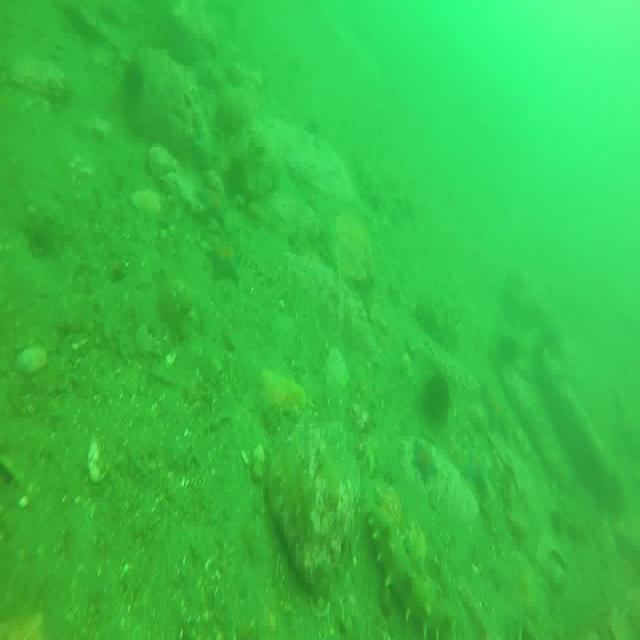echinus: (419, 372, 455, 424)
holothurian: (369, 502, 456, 640)
starfish: (208, 238, 246, 282), (465, 448, 498, 493), (410, 436, 439, 480)
